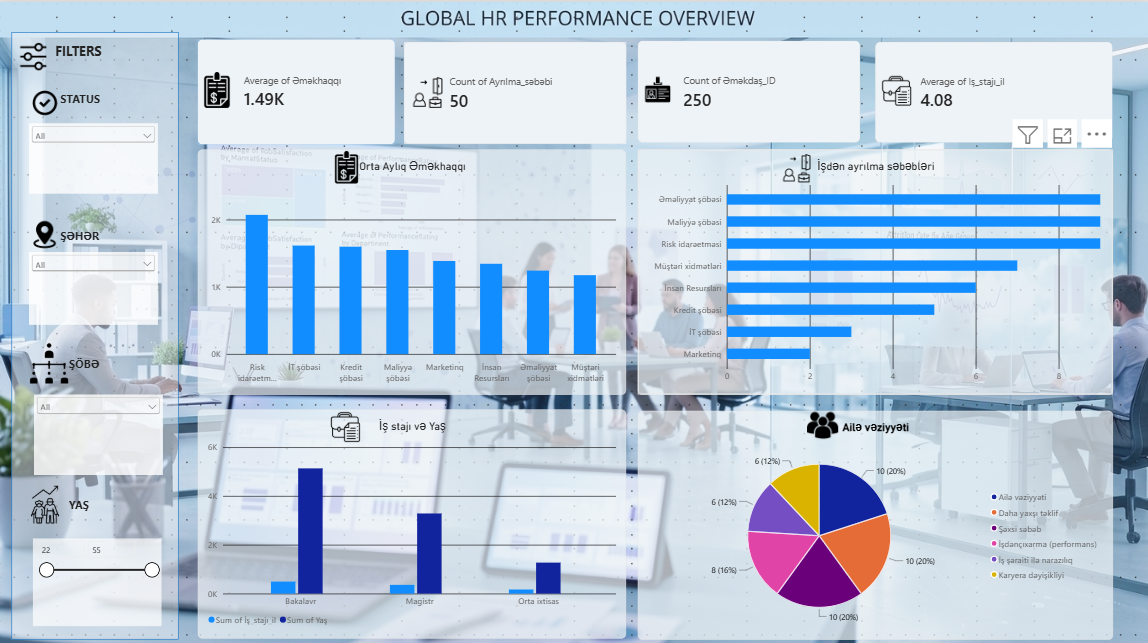

The dashboard page shown, as its layout file describes it:
{"tool":"powerbi","page":{"name":"Page 1","canvas":[1920,1080],"ordinal":0},"visuals":[{"type":"cardVisual","fields":{"Data":["Avg(HRData.Aylıq_maaş_AZN)"]},"box":[331.5,61.6,329.7,175.7],"z":0},{"type":"cardVisual","fields":{"Data":["Avg(HRData.İş_stajı_il)"]},"box":[1463.5,67,396.7,168.5],"z":1000},{"type":"cardVisual","fields":{"Data":["CountNonNull(HRData.Əməkdaş_ID)"]},"box":[1066.9,65.2,371.3,170.3],"z":2000},{"type":"cardVisual","fields":{"Data":["CountNonNull(HRData.Ayrılma_səbəbi)"]},"box":[675.6,67,371.3,170.3],"z":3000},{"type":"shape","box":[21.7,50.7,278.9,1014.3],"z":4000},{"type":"slicer","fields":{"Values":["HRData.Şöbə"]},"box":[58,655.7,215.5,134],"z":5000},{"type":"slicer","fields":{"Values":["HRData.Status"]},"box":[50.7,202.9,215.5,117.7],"z":6000},{"type":"slicer","fields":{"Values":["HRData.Yaş"]},"box":[56.2,894.8,215.5,146.7],"z":7000},{"type":"slicer","fields":{"Values":["HRData.Şəhər/Filial"]},"box":[50.7,418.4,215.5,121.4],"z":8000},{"type":"barChart","title":"İşdən ayrılma səbəbləri","fields":{"Category":["HRData.Şöbə"],"Y":["CountNonNull(HRData.Ayrılma_səbəbi)"]},"box":[1066.9,246.3,793.4,409.4],"z":10000},{"type":"clusteredColumnChart","title":"İş stajı və Yaş","fields":{"Y":["Sum(HRData.İş_stajı_il)","Sum(HRData.Yaş)"],"Category":["HRData.Təhsil_səviyyəsi"]},"box":[331.5,681.1,715.5,382.2],"z":11000},{"type":"clusteredColumnChart","title":"Orta Aylıq Əməkhaqqı ","fields":{"Category":["HRData.Şöbə"],"Y":["Avg(HRData.Aylıq_maaş_AZN)"]},"box":[331.5,246.3,715.5,409.4],"z":12000},{"type":"pieChart","title":"Ailə vəziyyəti","fields":{"Category":["HRData.Ayrılma_səbəbi"],"Y":["CountNonNull(HRData.Ailə_vəziyyəti)"]},"box":[1066.9,682.9,793.4,382.2],"z":13000},{"type":"image","box":[21.7,67,72.5,48.9],"z":14000},{"type":"textbox","box":[94.2,67,97.8,48.9],"z":15000},{"type":"image","box":[52.5,137.7,48.9,61.6],"z":16000},{"type":"textbox","box":[103.2,148.5,79.7,36.2],"z":17000},{"type":"image","box":[36.2,364.1,81.5,50.7],"z":18000},{"type":"textbox","box":[103.2,376.8,88.8,38],"z":19000},{"type":"image","box":[50.7,568.8,67,67],"z":20000},{"type":"textbox","box":[117.7,590.5,94.2,45.3],"z":21000},{"type":"image","box":[21.7,806,112.3,67],"z":22000},{"type":"textbox","box":[117.7,826,108.7,48.9],"z":23000},{"type":"image","box":[1331.3,681.1,86.9,52.5],"z":24000},{"type":"image","box":[518,682.9,121.4,54.3],"z":25000},{"type":"image","box":[552.5,246.3,54.3,59.8],"z":26000},{"type":"image","box":[1438.2,121.4,121.4,54.3],"z":27000},{"type":"image","box":[315.2,115.9,97.8,59.8],"z":28000},{"type":"image","box":[690.1,101.4,50.7,97.8],"z":29000},{"type":"image","box":[1032.5,121.4,134,50.7],"z":30000},{"type":"image","box":[1307.8,248.2,47.1,58],"z":31000}]}

Visuals, with their boxes in screenshot pixels (x1, y1, x2, y2), scaled from the page's 1920x1080 canvas onto the 1148x643 screenshot:
cardVisual - Avg(HRData.Aylıq_maaş_AZN): [left=198, top=37, right=395, bottom=141]
cardVisual - Avg(HRData.İş_stajı_il): [left=875, top=40, right=1112, bottom=140]
cardVisual - CountNonNull(HRData.Əməkdaş_ID): [left=638, top=39, right=860, bottom=140]
cardVisual - CountNonNull(HRData.Ayrılma_səbəbi): [left=404, top=40, right=626, bottom=141]
shape: [left=13, top=30, right=180, bottom=634]
slicer - HRData.Şöbə: [left=35, top=390, right=164, bottom=470]
slicer - HRData.Status: [left=30, top=121, right=159, bottom=191]
slicer - HRData.Yaş: [left=34, top=533, right=162, bottom=620]
slicer - HRData.Şəhər/Filial: [left=30, top=249, right=159, bottom=321]
"İşdən ayrılma səbəbləri" barChart: [left=638, top=147, right=1112, bottom=390]
"İş stajı və Yaş" clusteredColumnChart: [left=198, top=406, right=626, bottom=633]
"Orta Aylıq Əməkhaqqı " clusteredColumnChart: [left=198, top=147, right=626, bottom=390]
"Ailə vəziyyəti" pieChart: [left=638, top=407, right=1112, bottom=634]
image: [left=13, top=40, right=56, bottom=69]
textbox: [left=56, top=40, right=115, bottom=69]
image: [left=31, top=82, right=61, bottom=119]
textbox: [left=62, top=88, right=109, bottom=110]
image: [left=22, top=217, right=70, bottom=247]
textbox: [left=62, top=224, right=115, bottom=247]
image: [left=30, top=339, right=70, bottom=379]
textbox: [left=70, top=352, right=127, bottom=379]
image: [left=13, top=480, right=80, bottom=520]
textbox: [left=70, top=492, right=135, bottom=521]
image: [left=796, top=406, right=848, bottom=437]
image: [left=310, top=407, right=382, bottom=439]
image: [left=330, top=147, right=363, bottom=182]
image: [left=860, top=72, right=933, bottom=105]
image: [left=188, top=69, right=247, bottom=105]
image: [left=413, top=60, right=443, bottom=119]
image: [left=617, top=72, right=697, bottom=102]
image: [left=782, top=148, right=810, bottom=182]
